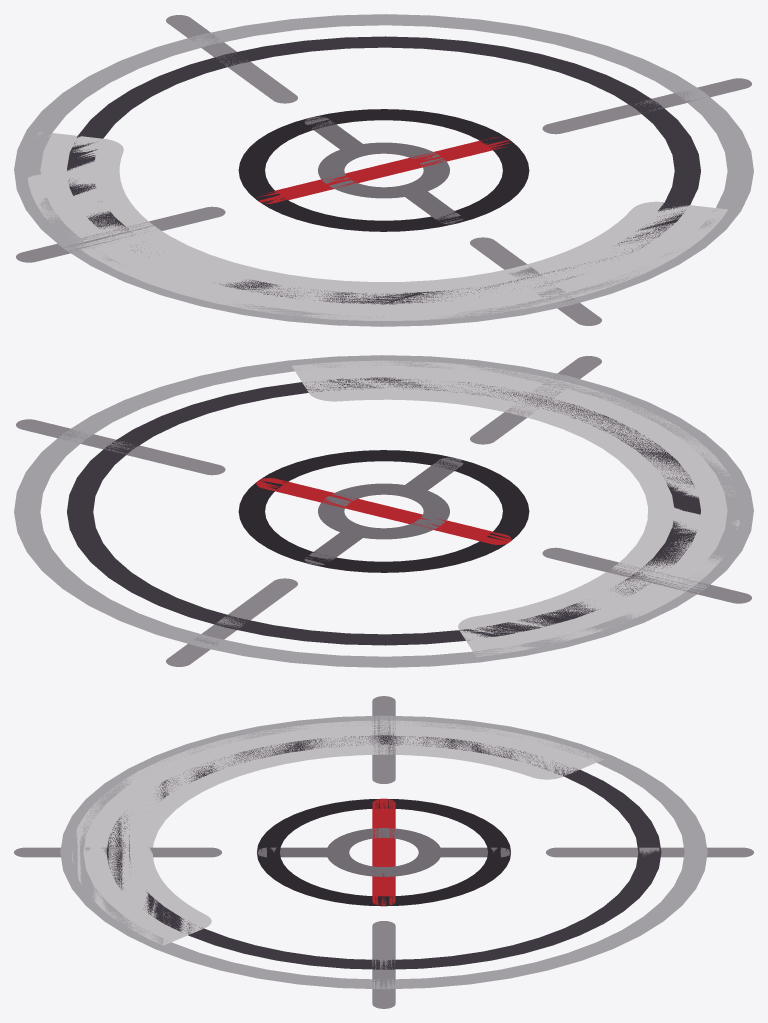
File: target.obj
The picture shows the model from 3 angles, top to bottom: view 1: azimuth 30°, elevation 25°; view 2: azimuth 150°, elevation 25°; view 3: azimuth 270°, elevation 25°; orthographic projection. The views are drawn at different scales.
Visible parts, largest first — view 1: Curve, Curve.001, Curve.002, Curve.009, Curve.003, Curve.008, Curve.004, Curve.006, Curve.007, Curve.005; view 2: Curve, Curve.001, Curve.002, Curve.009, Curve.003, Curve.008, Curve.006, Curve.004, Curve.007, Curve.005; view 3: Curve, Curve.001, Curve.002, Curve.009, Curve.003, Curve.008, Curve.006, Curve.004, Curve.007, Curve.005.
Boxes of the visible parts, <box> form: Curve: <box>27,131,728,320</box>; Curve.001: <box>14,14,753,326</box>; Curve.002: <box>67,36,700,304</box>; Curve.009: <box>238,109,529,231</box>; Curve.003: <box>304,116,463,224</box>; Curve.008: <box>257,137,511,203</box>; Curve.004: <box>166,15,297,103</box>; Curve.006: <box>542,78,751,134</box>; Curve.007: <box>16,206,225,262</box>; Curve.005: <box>470,237,601,325</box>; Curve: <box>292,360,739,656</box>; Curve.001: <box>14,355,753,667</box>; Curve.002: <box>67,377,700,645</box>; Curve.009: <box>238,450,529,572</box>; Curve.003: <box>304,457,463,565</box>; Curve.008: <box>256,478,511,544</box>; Curve.006: <box>16,419,225,475</box>; Curve.004: <box>166,578,297,666</box>; Curve.007: <box>542,547,751,603</box>; Curve.005: <box>470,356,601,444</box>; Curve: <box>72,720,603,945</box>; Curve.001: <box>60,715,707,989</box>; Curve.002: <box>106,735,661,969</box>; Curve.009: <box>257,798,510,906</box>; Curve.003: <box>257,828,510,876</box>; Curve.008: <box>372,798,395,906</box>; Curve.006: <box>372,921,395,1008</box>; Curve.004: <box>546,847,753,857</box>; Curve.007: <box>372,696,395,783</box>; Curve.005: <box>14,847,221,857</box>.
Size of the model in its own units: 0.1445 by 0 by 0.1445.
